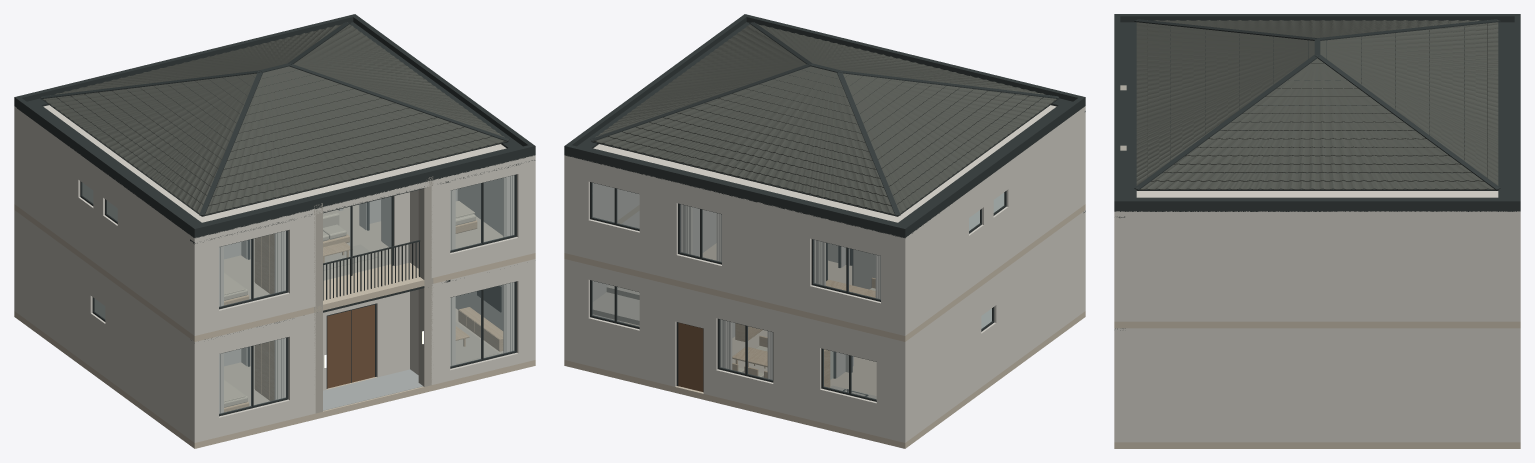
The model's file is house-option1-tiled.glb.
The picture shows the model from 3 angles, left to right: view 1: azimuth 30°, elevation 25°; view 2: azimuth 150°, elevation 25°; view 3: azimuth 270°, elevation 25°; orthographic projection. The views are drawn at different scales.
Visible parts, largest first — view 1: roof/mesh10/ceramic tile surface 1, roof/mesh11/ceramic tile surface 2, floor1/0724/left exterior, floor1/0721/left exterior, floor2/0737/left exterior, floor2/0001/upper slab west, roof/mesh12/ceramic tile surface 3, roof/0671/closed upper ceiling slab, floor2/0731/left exterior, floor1/0000/ground floor allowance, floor1/0059/W02 glass, roof/mesh9/ceramic tile surface 0 (+50 smaller); view 2: roof/mesh9/ceramic tile surface 0, roof/mesh11/ceramic tile surface 2, floor1/0724/left exterior, floor2/0075/rear exterior, floor1/0721/left exterior, floor2/0737/left exterior, roof/mesh12/ceramic tile surface 3, roof/0671/closed upper ceiling slab, floor2/0731/left exterior, floor1/0000/ground floor allowance, floor1/0010/rear exterior, roof/mesh10/ceramic tile surface 1 (+50 smaller); view 3: floor1/0006/right exterior, floor2/0071/right exterior, roof/mesh12/ceramic tile surface 3, roof/mesh9/ceramic tile surface 0, roof/mesh10/ceramic tile surface 1, roof/0675/inset eave fascia, roof/0671/closed upper ceiling slab, roof/mesh11/ceramic tile surface 2, roof/0676/perimeter gutter graphic allowance, roof/0677/perimeter gutter graphic allowance, floor1/0000/ground floor allowance, roof/0674/inset eave fascia (+10 smaller).
Boxes of the visible parts, x1,y1,x2,y2 form: roof/mesh10/ceramic tile surface 1: (205, 66, 506, 215); roof/mesh11/ceramic tile surface 2: (41, 73, 256, 213); floor1/0724/left exterior: (105, 277, 201, 442); floor1/0721/left exterior: (14, 210, 92, 366); floor2/0737/left exterior: (117, 188, 201, 335); floor2/0001/upper slab west: (14, 204, 424, 341); roof/mesh12/ceramic tile surface 3: (293, 22, 504, 137); roof/0671/closed upper ceiling slab: (14, 105, 535, 243); floor2/0731/left exterior: (14, 112, 80, 250); floor1/0000/ground floor allowance: (14, 308, 535, 448); floor1/0059/W02 glass: (450, 282, 514, 366); roof/mesh9/ceramic tile surface 0: (50, 24, 342, 95); roof/mesh9/ceramic tile surface 0: (593, 66, 894, 215); roof/mesh11/ceramic tile surface 2: (843, 73, 1058, 213); floor1/0724/left exterior: (994, 210, 1085, 375); floor2/0075/rear exterior: (722, 199, 811, 312); floor1/0721/left exterior: (898, 286, 981, 442); floor2/0737/left exterior: (1006, 112, 1085, 260); roof/mesh12/ceramic tile surface 3: (595, 22, 806, 137); roof/0671/closed upper ceiling slab: (564, 105, 1085, 243); floor2/0731/left exterior: (898, 197, 968, 335); floor1/0000/ground floor allowance: (564, 311, 1085, 448); floor1/0010/rear exterior: (773, 310, 821, 421); roof/mesh10/ceramic tile surface 1: (757, 24, 1049, 95); floor1/0006/right exterior: (1114, 328, 1520, 442); floor2/0071/right exterior: (1114, 218, 1520, 321); roof/mesh12/ceramic tile surface 3: (1140, 58, 1494, 189); roof/mesh9/ceramic tile surface 0: (1320, 20, 1498, 185); roof/mesh10/ceramic tile surface 1: (1136, 20, 1314, 185); roof/0675/inset eave fascia: (1120, 198, 1514, 211); roof/0671/closed upper ceiling slab: (1114, 191, 1520, 217); roof/mesh11/ceramic tile surface 2: (1147, 20, 1487, 37); roof/0676/perimeter gutter graphic allowance: (1498, 22, 1514, 198); roof/0677/perimeter gutter graphic allowance: (1120, 22, 1136, 198); floor1/0000/ground floor allowance: (1114, 442, 1520, 448); roof/0674/inset eave fascia: (1120, 14, 1514, 22).
Size of the model in its own units: 12 by 9.21 by 11.
18 materials, 1 textured.
